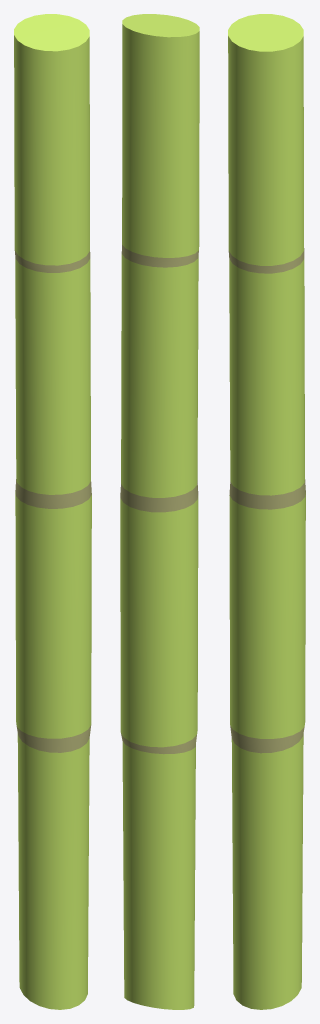
File: BambuV3.fbx
The picture shows the model from 3 angles, left to right: view 1: azimuth 30°, elevation 25°; view 2: azimuth 150°, elevation 25°; view 3: azimuth 330°, elevation 25°; orthographic projection. The views are drawn at different scales.
Parts seen in each view (by area): view 1: Rama_Bambu2; view 2: Rama_Bambu2; view 3: Rama_Bambu2.
Boxes of the visible parts, <box> form: Rama_Bambu2: <box>14,14,91,1009</box>; Rama_Bambu2: <box>120,14,199,1009</box>; Rama_Bambu2: <box>228,14,305,1009</box>.
Size of the model in its own units: 0.4896 by 6.54 by 0.4706.
